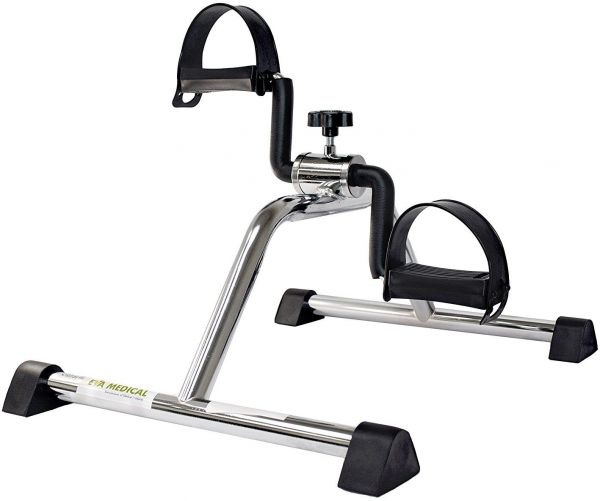gym_bike: (21, 20, 588, 482)
